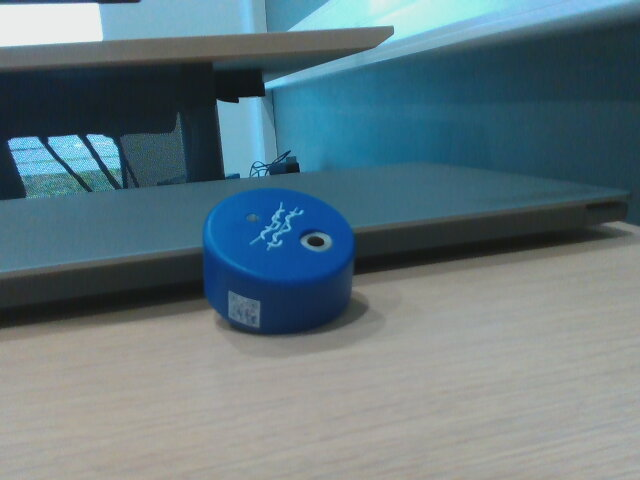alfa: (194, 182, 367, 338)
